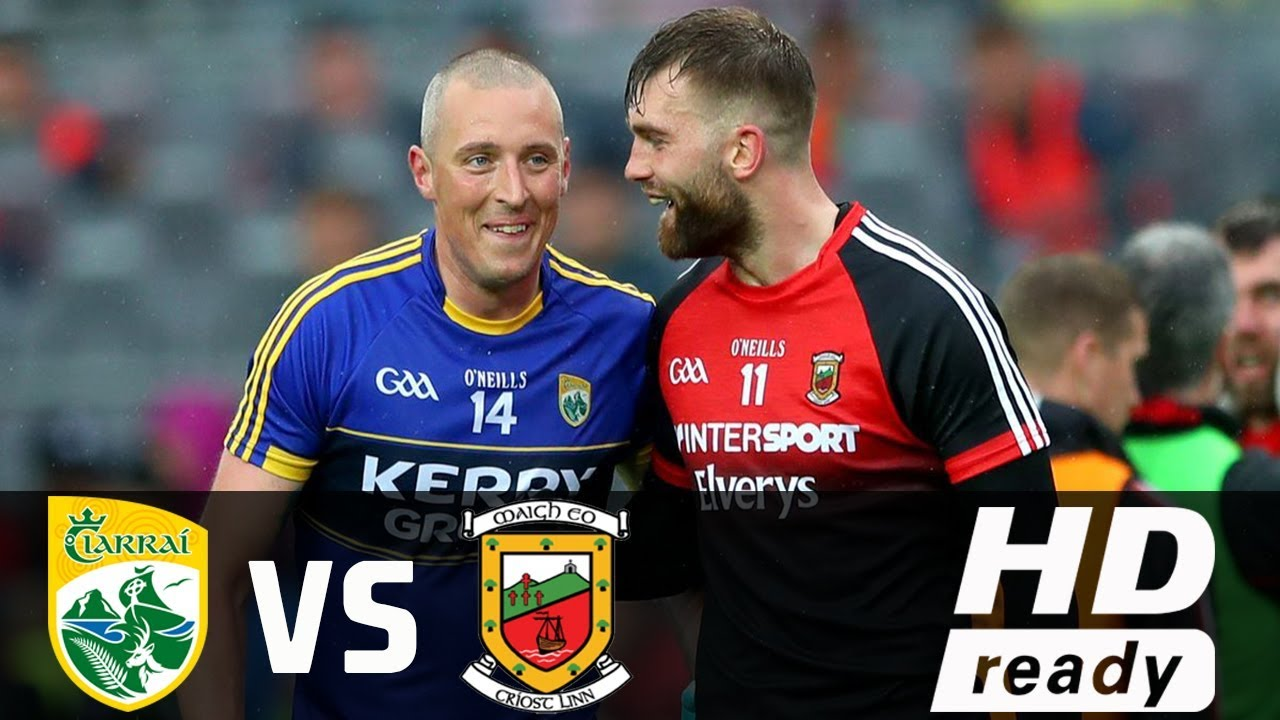player: (589, 12, 1054, 457), (301, 56, 635, 445)
